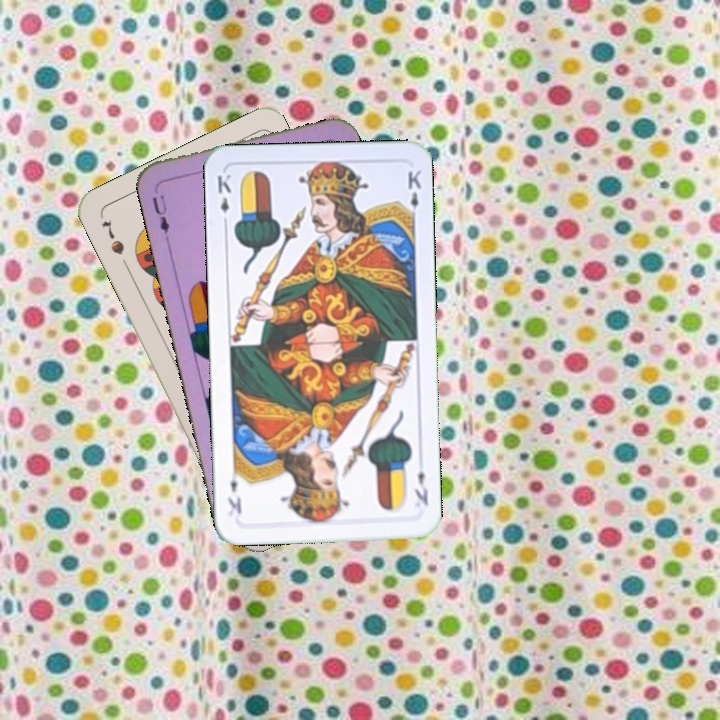EK: (213, 170, 233, 229), (410, 467, 431, 508)
EU: (148, 190, 172, 242)
S7: (97, 216, 127, 258)
